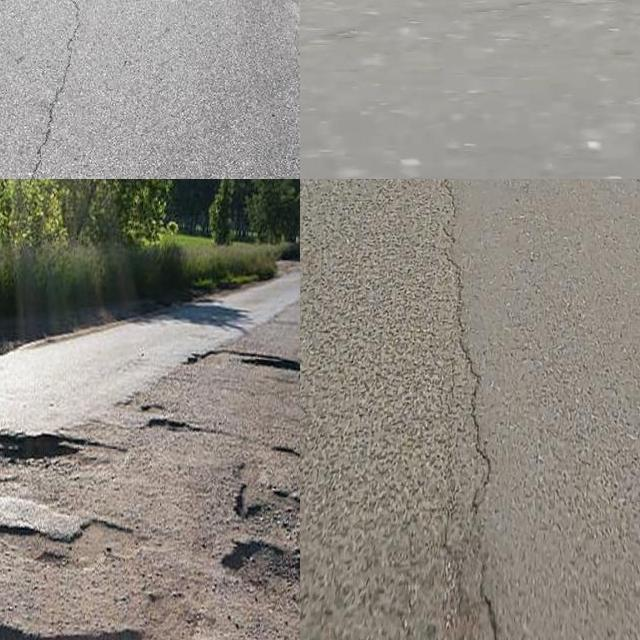Lubang: (0, 435, 120, 507), (227, 541, 300, 609)
Memanjang: (434, 179, 529, 640), (18, 0, 101, 179)
